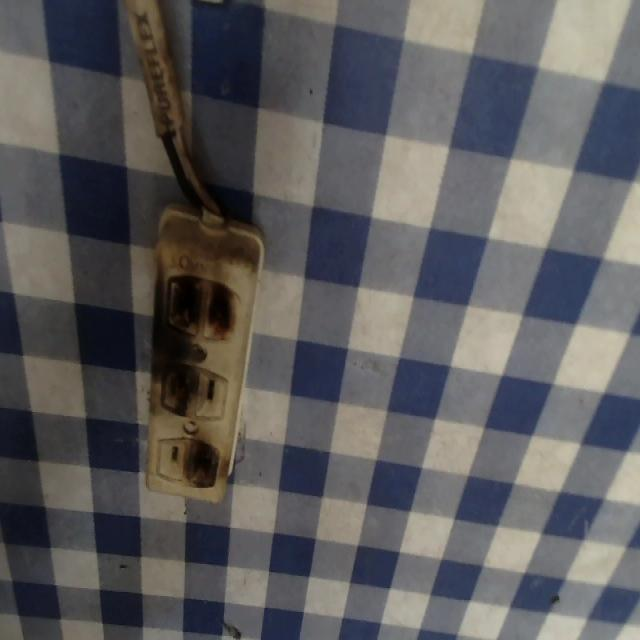-: (165, 271, 237, 340), (159, 359, 200, 417), (185, 436, 218, 492)
